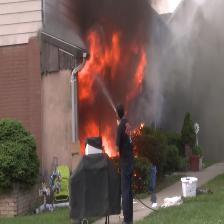fire: (68, 19, 152, 169)
smoke: (146, 0, 224, 133)
